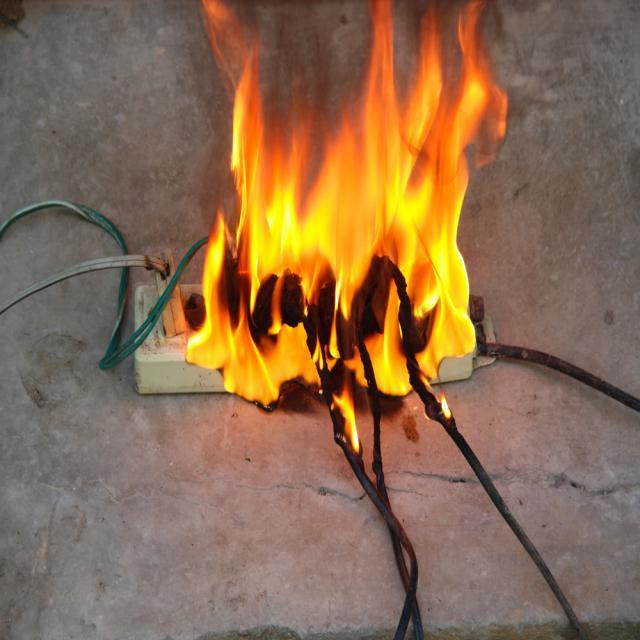Fire: (172, 3, 517, 440)
